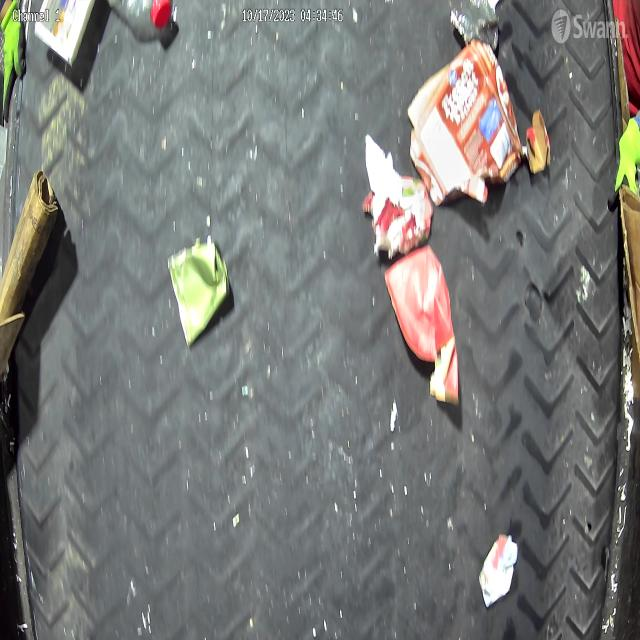non_white_jug: (386, 247, 455, 363)
